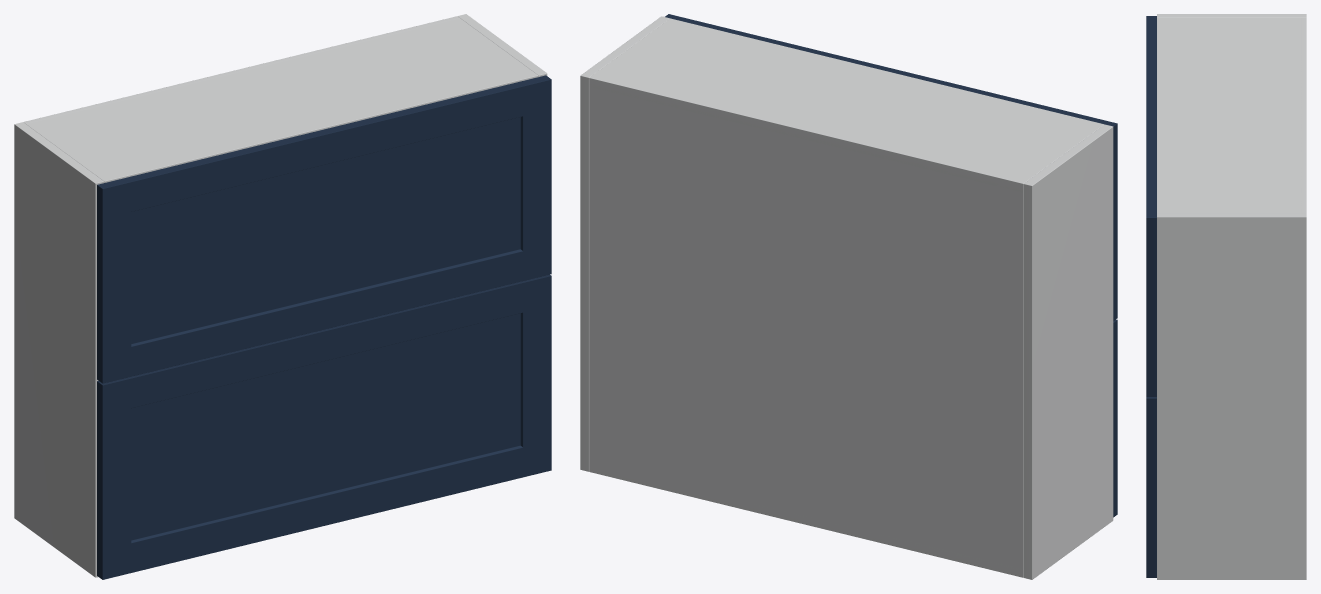
The model's file is oppein-ply-bss-wbf3630.glb.
The picture shows the model from 3 angles, left to right: view 1: azimuth 30°, elevation 25°; view 2: azimuth 150°, elevation 25°; view 3: azimuth 270°, elevation 25°; orthographic projection. The views are drawn at different scales.
Visible parts, largest first — view 1: Door.001, Door, Cabinet top, Cabinet side, Cabinet back, Cabinet side.001; view 2: Cabinet back, Cabinet top, Cabinet side, Cabinet side.001, Door.001, Cabinet bottom, Door; view 3: Cabinet side.001, Cabinet top, Door.001, Door, Cabinet back, Cabinet side.
Part boxes in pixels (box(x1,y1,x2,y2)): Door.001: box(97, 75, 551, 383); Door: box(97, 274, 551, 579); Cabinet top: box(23, 18, 538, 182); Cabinet side: box(14, 122, 104, 577); Cabinet back: box(24, 16, 459, 124); Cabinet side.001: box(458, 14, 547, 76); Cabinet back: box(589, 75, 1026, 577); Cabinet top: box(589, 18, 1103, 192); Cabinet side: box(1023, 124, 1113, 579); Cabinet side.001: box(580, 16, 669, 471); Door.001: box(665, 14, 1117, 320); Cabinet bottom: box(589, 467, 1023, 577); Door: box(1113, 319, 1117, 517); Cabinet side.001: box(1157, 213, 1306, 579); Cabinet top: box(1157, 18, 1306, 213); Door.001: box(1146, 16, 1156, 396); Door: box(1146, 397, 1156, 577); Cabinet back: box(1300, 18, 1306, 213); Cabinet side: box(1157, 14, 1306, 17).
Bounding box in the file's own units: 0.9144 × 0.762 × 0.3048.
